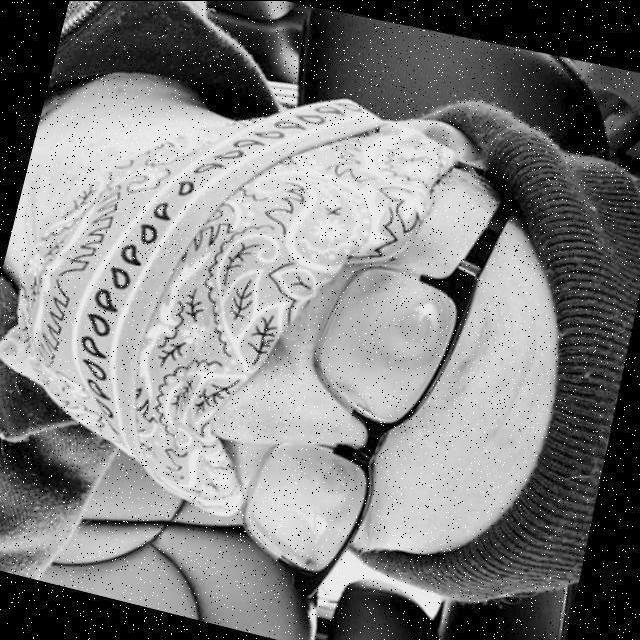hairnet: (8, 55, 390, 526)
